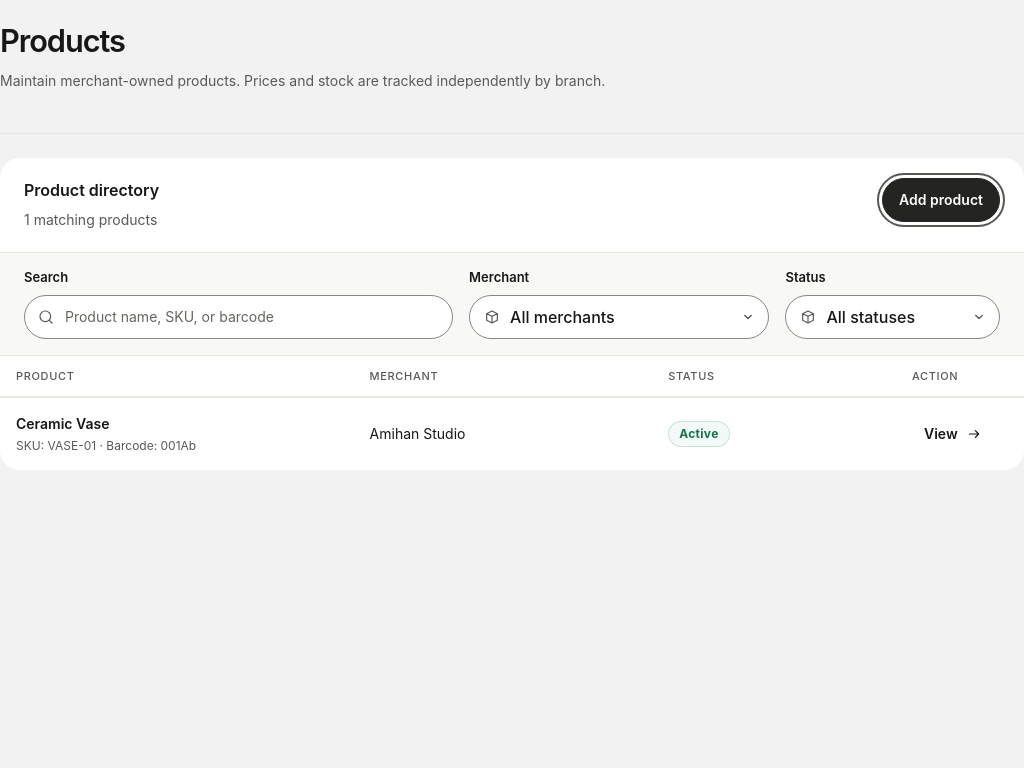
Test: ProductDirectory workflows › creates a product in a dialog, announces success, and reloads the list
Expected: the text "Ceramic Vase" is shown, top-left (16, 415), bottom-right (109, 432)
Click the button "Add product": (941, 200) top-left (882, 178), bottom-right (1000, 222)
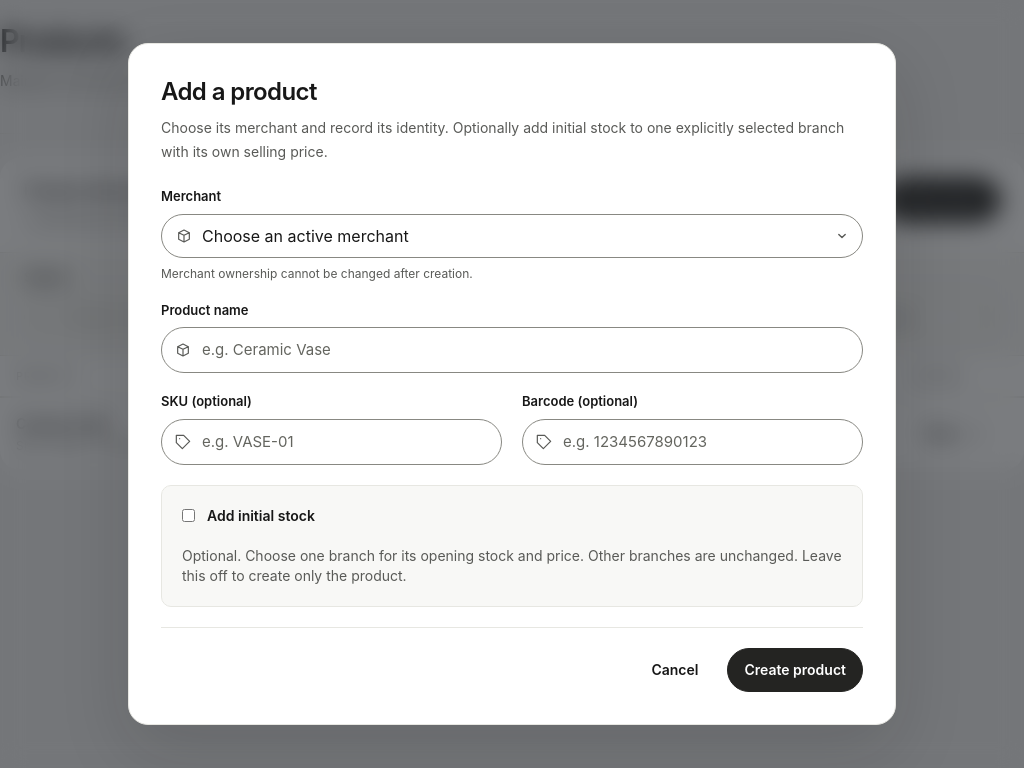
Click the dropdown labelled "merchant": (305, 236) top-left (161, 214), bottom-right (863, 258)
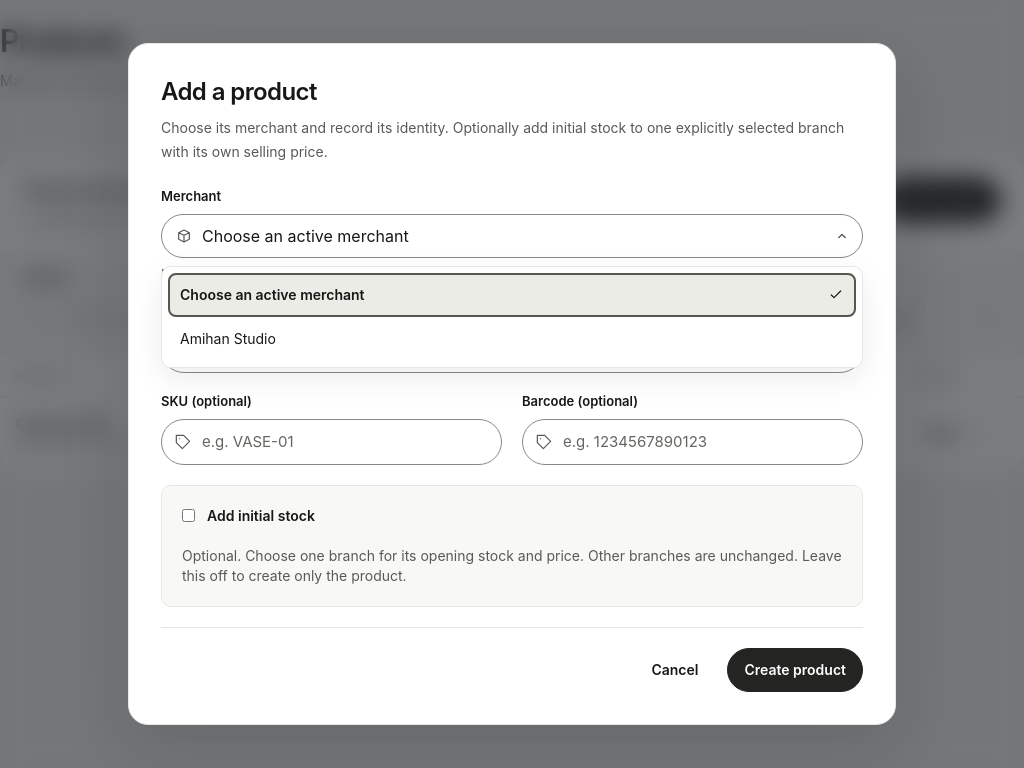
Click the option "Amihan Studio": (228, 338) top-left (168, 317), bottom-right (856, 361)
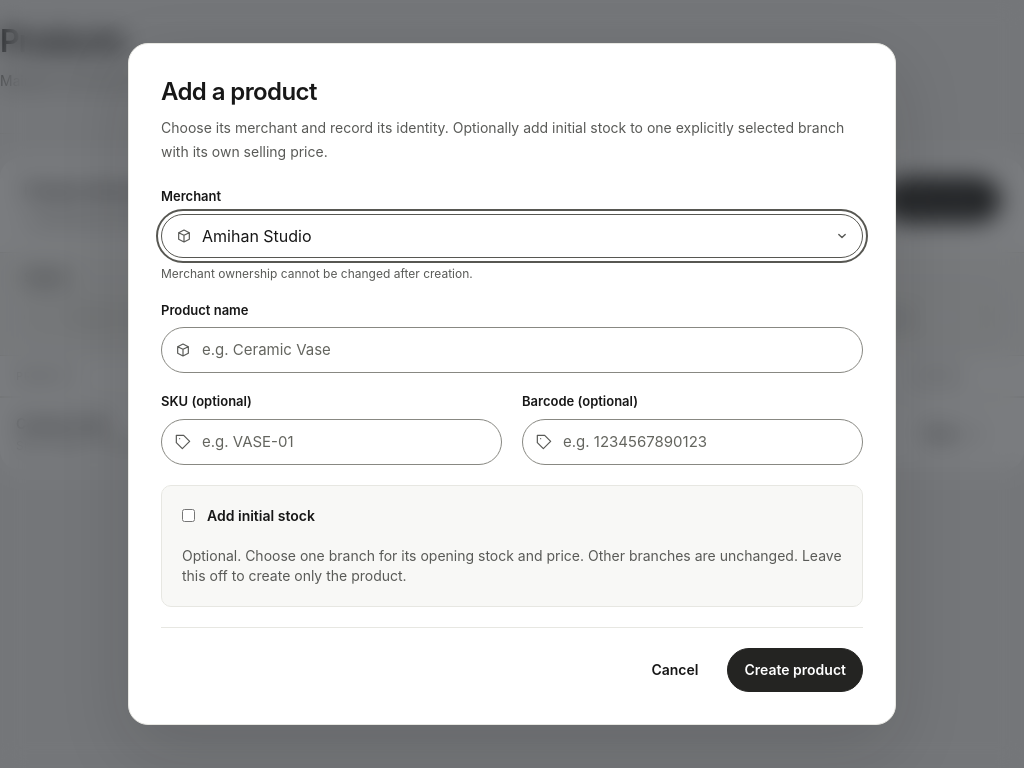
In the field labelled "Product name": (512, 350) top-left (161, 327), bottom-right (863, 373), type " New vase "
In the field labelled "SKU (optional)": (332, 442) top-left (161, 419), bottom-right (502, 465), type " va-02 "
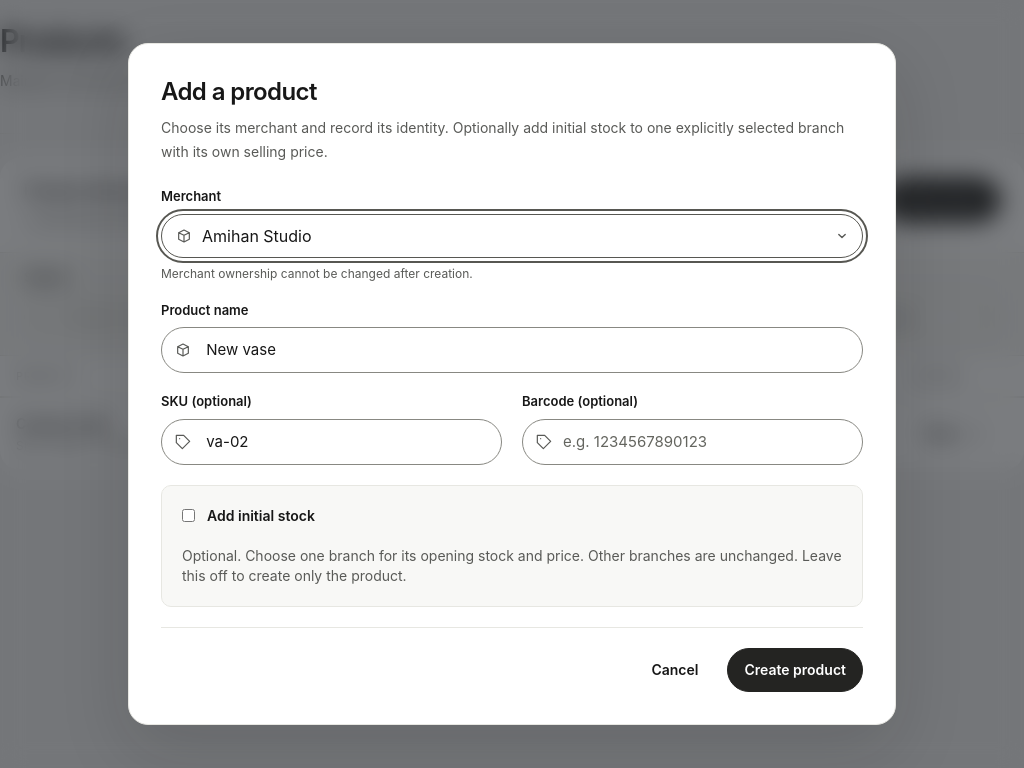
In the field labelled "Barcode (optional)": (692, 442) top-left (522, 419), bottom-right (863, 465), type "001aB"
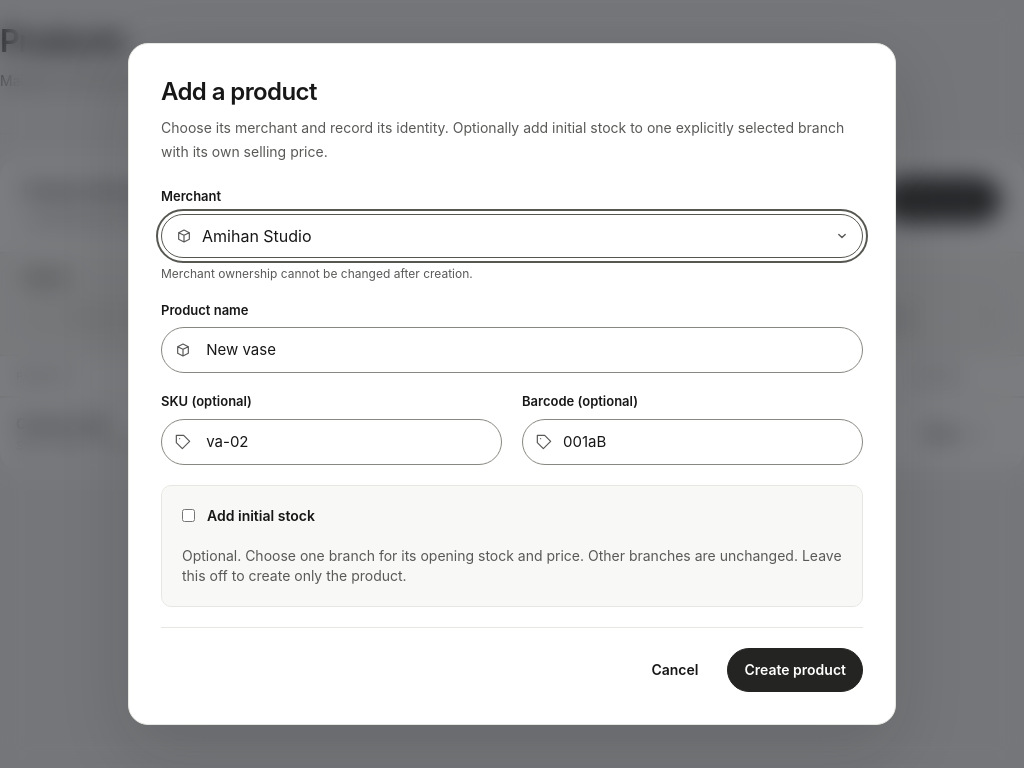
Click the button "Create product": (795, 670) top-left (727, 648), bottom-right (863, 692)
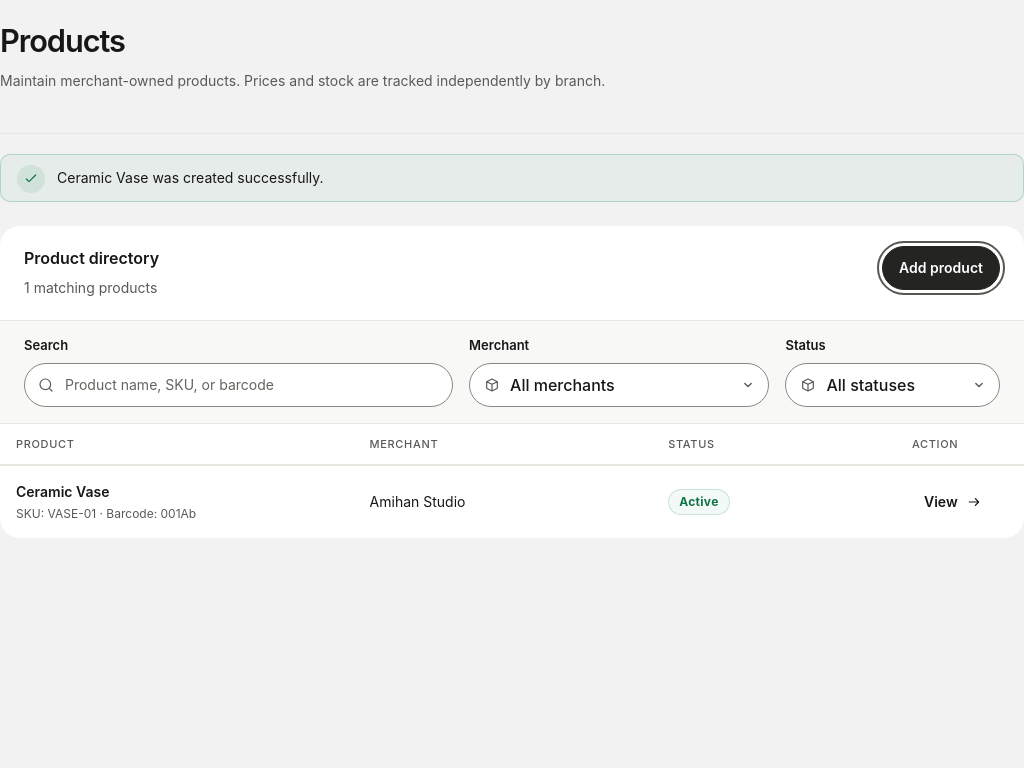
Result: the dialog is gone
